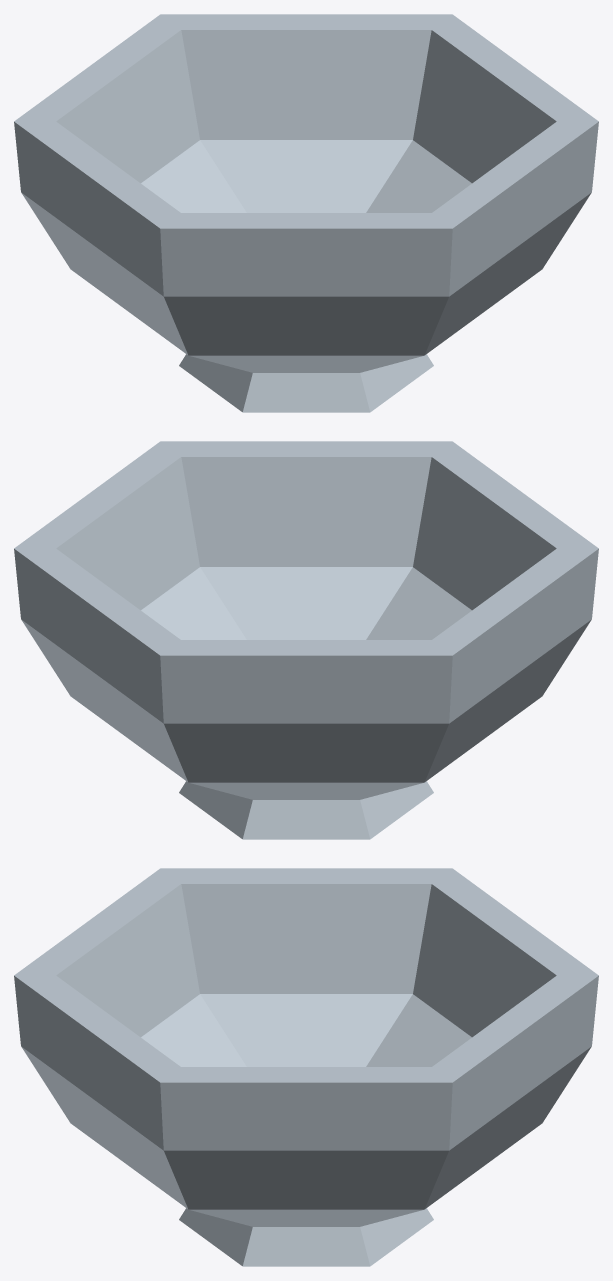
Rendered from mortar.glb.
The picture shows the model from 3 angles, top to bottom: view 1: azimuth 30°, elevation 25°; view 2: azimuth 150°, elevation 25°; view 3: azimuth 270°, elevation 25°; orthographic projection.
Visible parts, largest first — view 1: mortar; view 2: mortar; view 3: mortar.
Boxes of the visible parts, <box> form: mortar: <box>14,14,598,412</box>; mortar: <box>14,441,598,839</box>; mortar: <box>14,868,598,1266</box>.
Size of the model in its own units: 0.3955 by 0.2104 by 0.4567.
